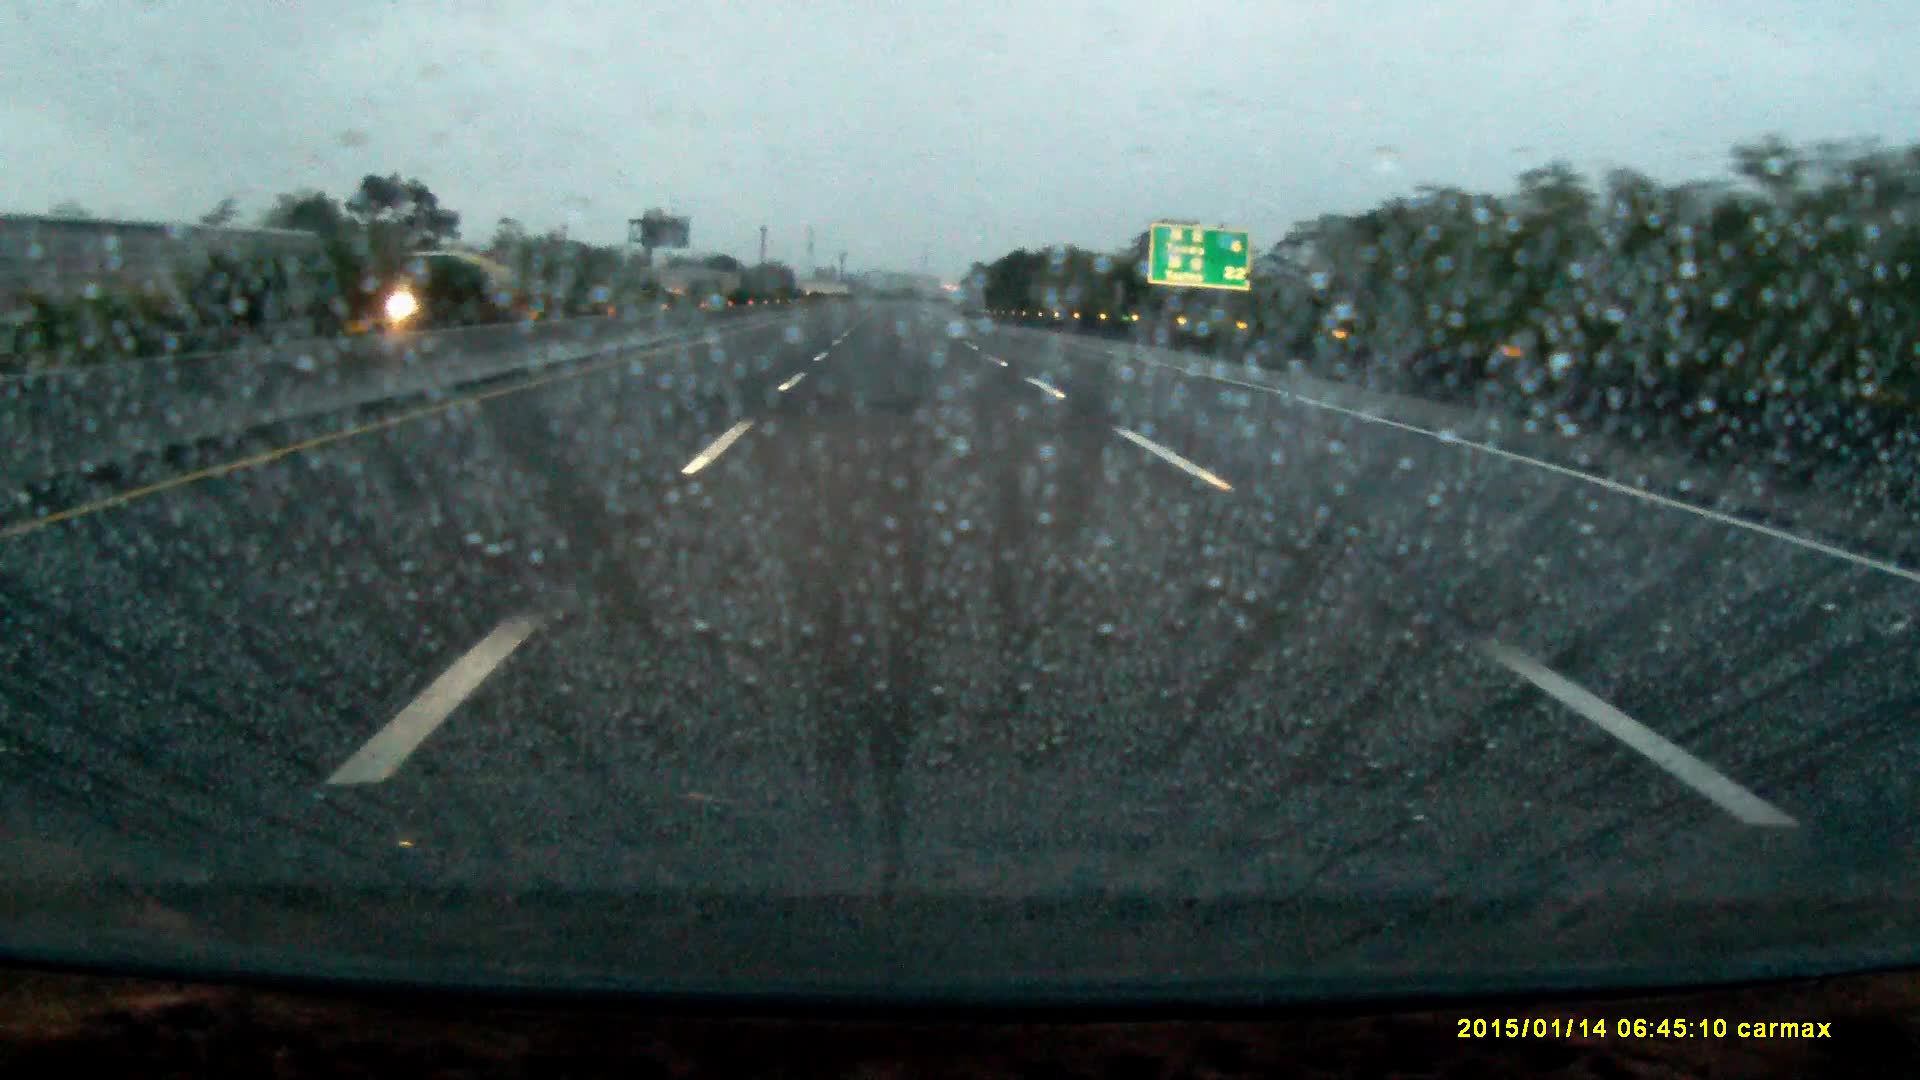vehicle: (392, 252, 521, 319)
